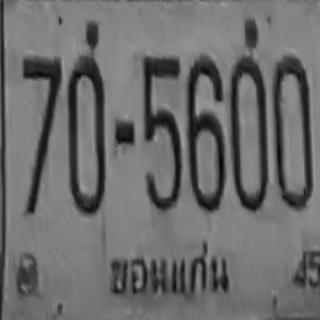N00: (271, 56, 313, 210), (229, 56, 268, 211), (67, 56, 105, 214)
N05: (142, 56, 182, 210)
N06: (186, 56, 225, 211)
N07: (23, 56, 61, 214)
P18: (99, 234, 235, 305)
